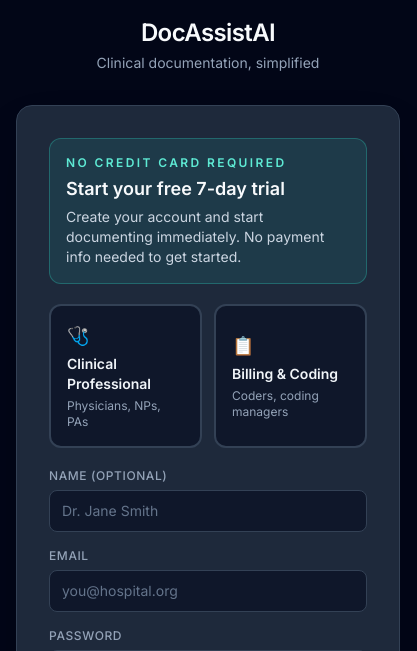
Scenario: ScribeRegisterPage › shows invitation help text when invited path is selected
The width and height of the screenshot is (417, 651).
Click the text "Billing & Coding" at (290, 374), box [232,364,349,384]
(page scrolled)
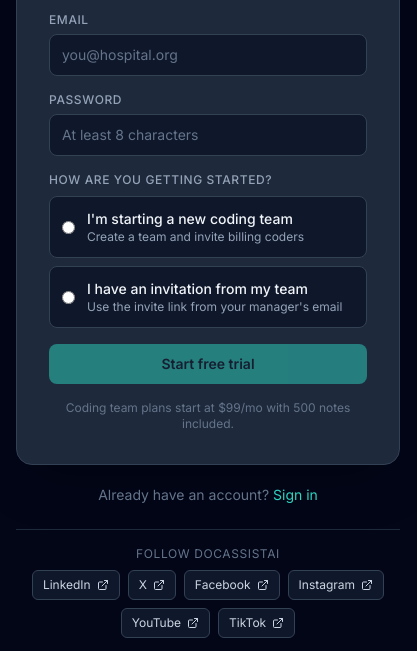
Click the text "I have an invitation from my team" at (215, 289), box [87,279,342,299]
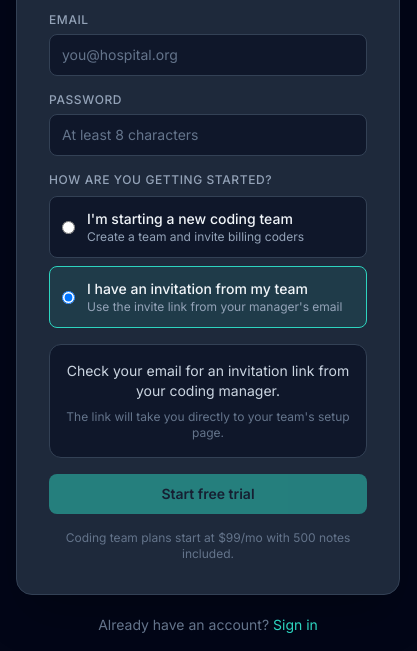
Check: the text "Check your email for an invitation link" is shown, box [67,362,349,399]
